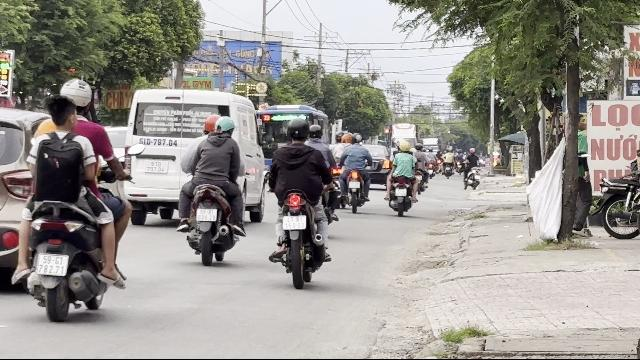helmet: (58, 78, 94, 112), (285, 116, 309, 144), (214, 115, 236, 136), (203, 114, 220, 134)
licenseplate: (36, 252, 68, 276), (282, 216, 306, 231), (196, 208, 216, 222)
motorcyclist: (8, 76, 132, 320), (267, 118, 337, 286), (175, 113, 247, 263)
nohelmet: (44, 94, 76, 127)
